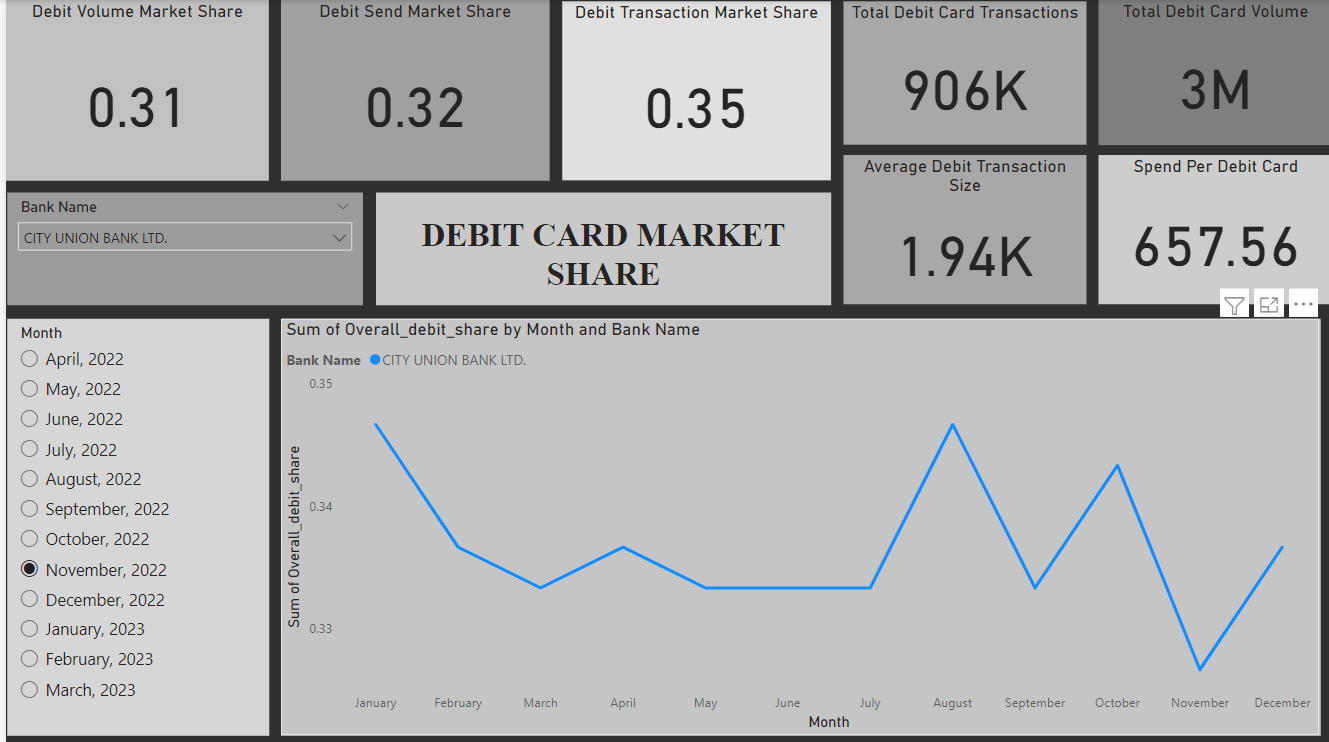

Layout of this report page (visuals, bound fields, positions):
{"tool":"powerbi","page":{"name":"DEBIT","canvas":[1280,720],"ordinal":1},"visuals":[{"type":"card","title":"Debit Volume Market Share","fields":{"Values":["Sum(Sheet1.dc_volume_share)"]},"box":[0,0,253.9,174.3],"z":0},{"type":"card","title":"Debit Send Market Share","fields":{"Values":["Sum(Sheet1.dc_spend_share)"]},"box":[264.8,0,259.3,174.3],"z":1000},{"type":"card","title":"Debit Transaction Market Share","fields":{"Values":["Sum(Sheet1.dc_trans_share)"]},"box":[536.5,1.4,259.3,172.9],"z":2000},{"type":"card","title":"Total Debit Card Transactions","fields":{"Values":["Sum(Sheet1.dc_trasactions)"]},"box":[808.2,1.4,234.6,138.6],"z":3000},{"type":"card","title":"Total Debit Card Volume","fields":{"Values":["Sum(Sheet1.Debit Cards)"]},"box":[1053.9,0,226.4,140],"z":4000},{"type":"card","title":"Average Debit Transaction Size","fields":{"Values":["Sum(Sheet1.avg_trans_size_D)"]},"box":[808.2,149.6,234.6,144.1],"z":5000},{"type":"card","title":"Spend Per Debit Card","fields":{"Values":["Sum(Sheet1.Spend_per_Card_D)"]},"box":[1053.9,149.6,226.4,144.1],"z":6000},{"type":"slicer","fields":{"Values":["Sheet1.Bank Name"]},"box":[1.4,185.2,343.1,108.4],"z":7000},{"type":"slicer","fields":{"Values":["Sheet1.Month"]},"box":[1.4,307.4,252.5,402.1],"z":8000},{"type":"textbox","box":[356.8,185.2,439.1,108.4],"z":9000},{"type":"lineChart","fields":{"Category":["Sheet1.Month.Variation.Date Hierarchy.Month"],"Series":["Sheet1.Bank Name"],"Y":["Sum(Sheet1.Overall_debit_share)"]},"box":[264.8,307.4,1003.1,402.1],"z":10000}]}

Visuals, with their boxes in screenshot pixels (x1, y1, x2, y2), scaled from the page's 1280x720 canvas onto the 1329x742 screenshot:
"Debit Volume Market Share" card: Rect(0, 0, 264, 180)
"Debit Send Market Share" card: Rect(275, 0, 544, 180)
"Debit Transaction Market Share" card: Rect(557, 1, 826, 180)
"Total Debit Card Transactions" card: Rect(839, 1, 1083, 144)
"Total Debit Card Volume" card: Rect(1094, 0, 1328, 144)
"Average Debit Transaction Size" card: Rect(839, 154, 1083, 303)
"Spend Per Debit Card" card: Rect(1094, 154, 1328, 303)
slicer - Sheet1.Bank Name: Rect(1, 191, 358, 303)
slicer - Sheet1.Month: Rect(1, 317, 264, 731)
textbox: Rect(370, 191, 826, 303)
lineChart - Sheet1.Month.Variation.Date Hierarchy.Month x Sheet1.Bank Name: Rect(275, 317, 1316, 731)
